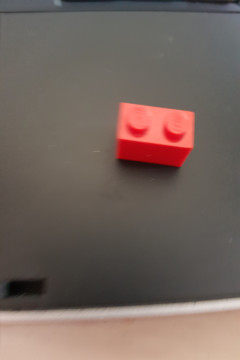1x2 red: (116, 102, 195, 172)
